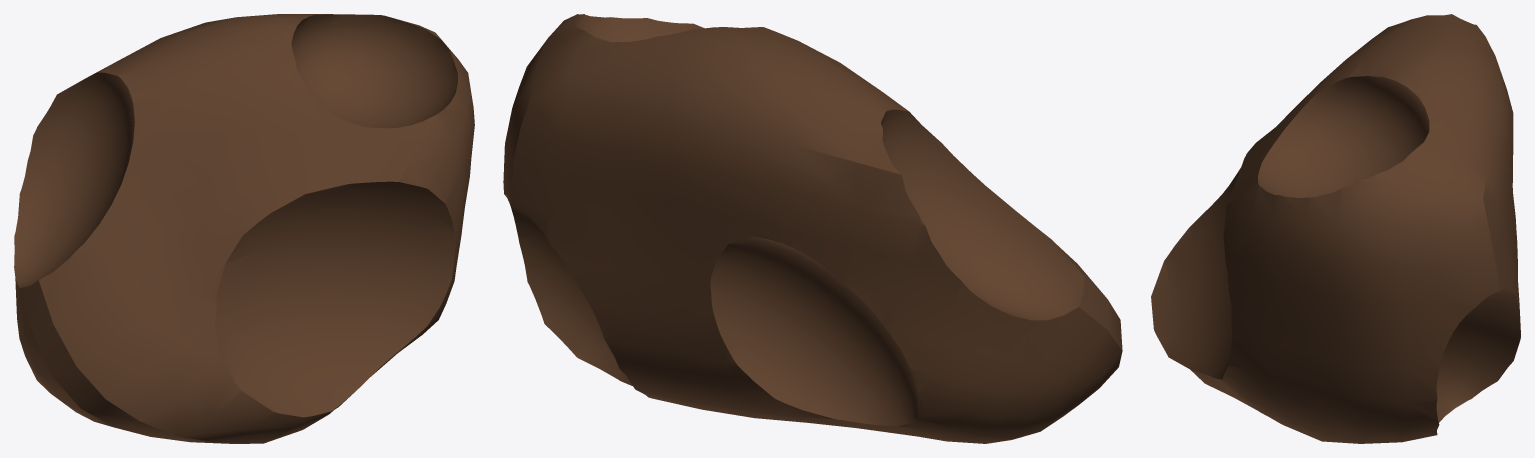
File: Assteroid 1.fbx
3 renders of one model, left to right at view 1: azimuth 30°, elevation 25°; view 2: azimuth 150°, elevation 25°; view 3: azimuth 270°, elevation 25°, orthographic. The views are drawn at different scales.
Parts seen in each view (by area): view 1: rock.001; view 2: rock.001; view 3: rock.001.
Part boxes in pixels (box(x1,y1,x2,y2)): rock.001: box(14, 14, 474, 443); rock.001: box(503, 14, 1122, 443); rock.001: box(1151, 14, 1520, 443).
Bounding box in the file's own units: 159 × 113 × 104.
